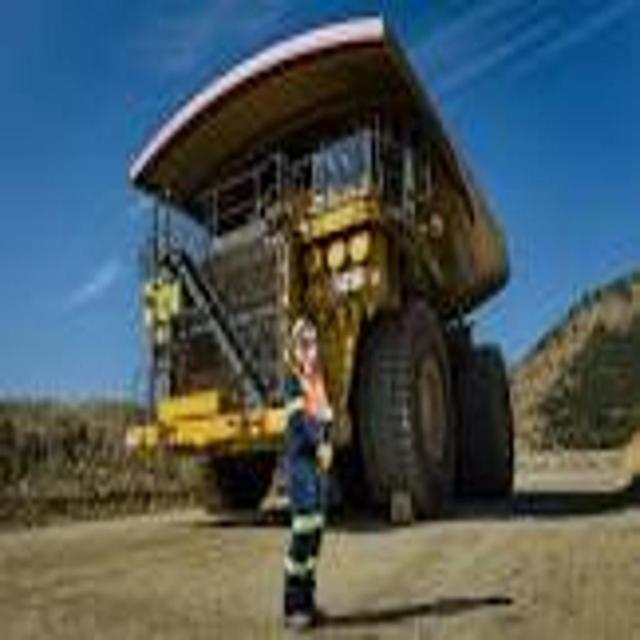dump_truck: (127, 18, 527, 528)
